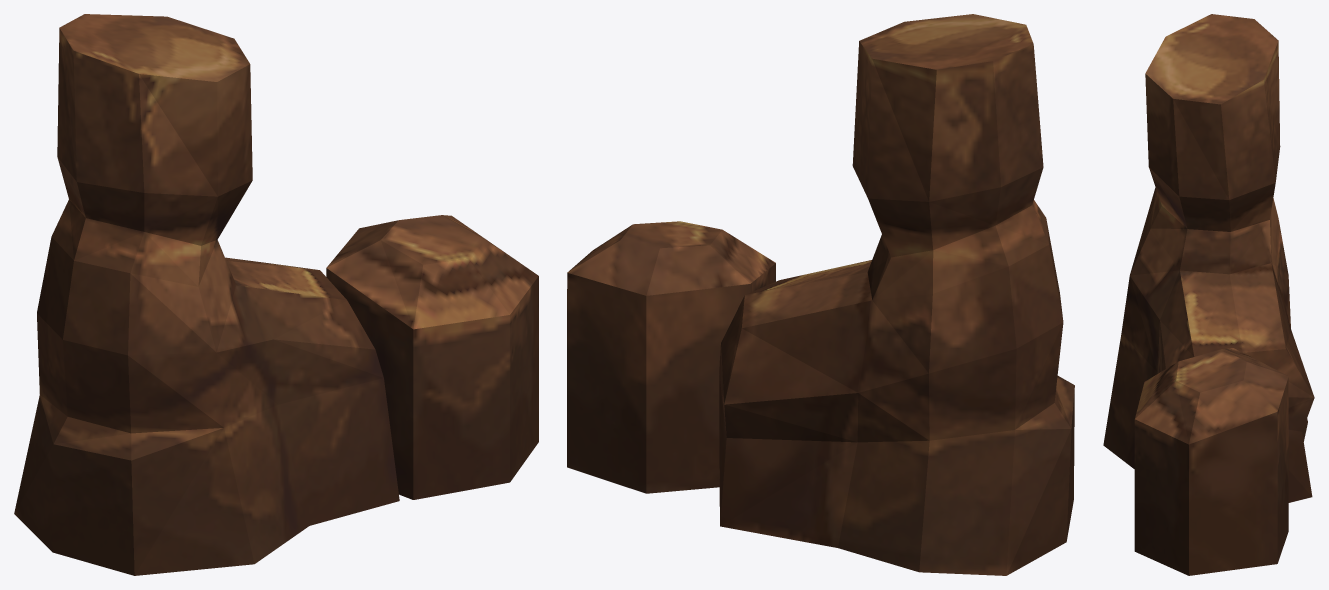
Rendered from ShiTou10.FBX.
The picture shows the model from 3 angles, left to right: view 1: azimuth 30°, elevation 25°; view 2: azimuth 150°, elevation 25°; view 3: azimuth 270°, elevation 25°; orthographic projection. The views are drawn at different scales.
Parts seen in each view (by area): view 1: ShiTou10; view 2: ShiTou10; view 3: ShiTou10.
Part boxes in pixels (bbox=[...]): ShiTou10: bbox=[14, 14, 538, 575]; ShiTou10: bbox=[567, 14, 1074, 575]; ShiTou10: bbox=[1103, 14, 1314, 575].
Bounding box in the file's own units: 155 × 151 × 74.65.
